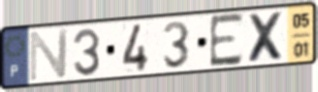3: (71, 26, 103, 78), (162, 20, 192, 70)
4: (120, 21, 151, 73)
E: (208, 11, 246, 70)
N: (28, 27, 71, 84)
X: (246, 10, 288, 65)
